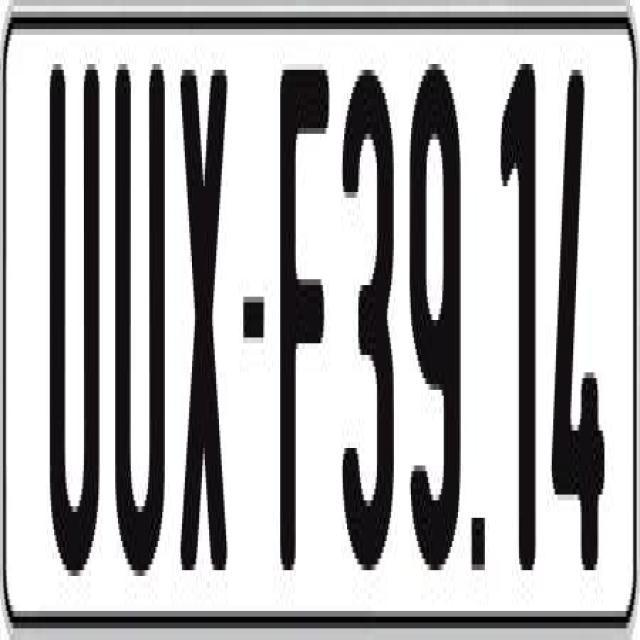1: (500, 52, 540, 588)
3: (338, 52, 396, 576)
4: (548, 64, 600, 570)
9: (406, 64, 462, 594)
F: (277, 64, 327, 570)
U: (111, 58, 168, 588), (48, 58, 101, 582)
X: (178, 58, 225, 559)
